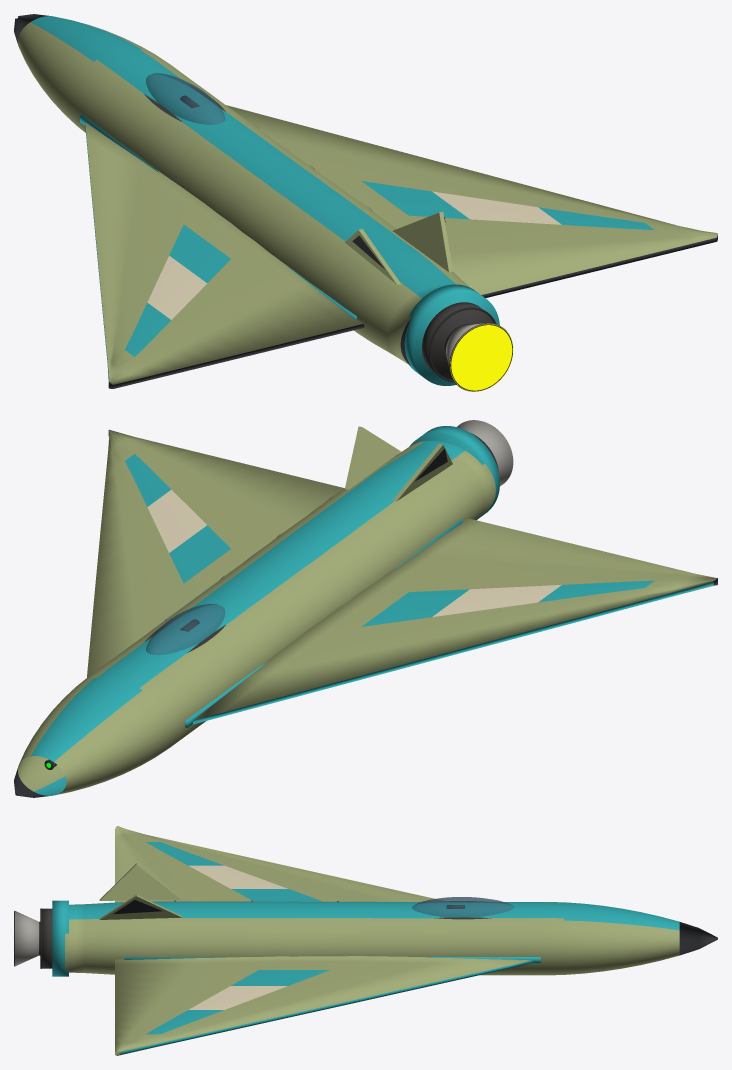
The model's file is Ship_Longwing_6.glb.
3 renders of one model, top to bottom at view 1: azimuth 30°, elevation 25°; view 2: azimuth 150°, elevation 25°; view 3: azimuth 270°, elevation 25°, orthographic. The views are drawn at different scales.
Visible parts, largest first — view 1: Fuselage_OrganicEllipsoidTaperedBody_BakedPaint, Wing_Left_LongDeltaAerofoil_BakedPaint, Wing_Right_LongDeltaAerofoil_BakedPaint, EngineEmitter, AftCollar_IntegratedSingleEngineBand, CanopyGlass_LowInsetDome, EngineBlock_AftDarkSingleEngineHousing, TailFin_Right_CantedStabilizer, TailFin_Left_CantedStabilizer; view 2: Fuselage_OrganicEllipsoidTaperedBody_BakedPaint, Wing_Left_LongDeltaAerofoil_BakedPaint, Wing_Right_LongDeltaAerofoil_BakedPaint, CanopyGlass_LowInsetDome, TailFin_Right_CantedStabilizer, AftCollar_IntegratedSingleEngineBand, EngineBell_Center_BroadBurnishedNozzle, TailFin_Left_CantedStabilizer; view 3: Fuselage_OrganicEllipsoidTaperedBody_BakedPaint, Wing_Right_LongDeltaAerofoil_BakedPaint, Wing_Left_LongDeltaAerofoil_BakedPaint, CanopyGlass_LowInsetDome, TailFin_Left_CantedStabilizer, AftCollar_IntegratedSingleEngineBand, EngineBell_Center_BroadBurnishedNozzle, TailFin_Right_CantedStabilizer, EngineBlock_AftDarkSingleEngineHousing, WingRoot_Right_EmbeddedShoulder.
Boxes of the visible parts, <box> form: Fuselage_OrganicEllipsoidTaperedBody_BakedPaint: <box>14,14,470,365</box>; Wing_Left_LongDeltaAerofoil_BakedPaint: <box>85,122,364,388</box>; Wing_Right_LongDeltaAerofoil_BakedPaint: <box>226,105,717,298</box>; EngineEmitter: <box>450,324,513,391</box>; AftCollar_IntegratedSingleEngineBand: <box>404,284,499,385</box>; CanopyGlass_LowInsetDome: <box>146,73,225,124</box>; EngineBlock_AftDarkSingleEngineHousing: <box>422,302,493,379</box>; TailFin_Right_CantedStabilizer: <box>393,211,452,272</box>; TailFin_Left_CantedStabilizer: <box>345,229,400,284</box>; Fuselage_OrganicEllipsoidTaperedBody_BakedPaint: <box>14,440,495,797</box>; Wing_Left_LongDeltaAerofoil_BakedPaint: <box>192,518,717,724</box>; Wing_Right_LongDeltaAerofoil_BakedPaint: <box>87,429,344,677</box>; CanopyGlass_LowInsetDome: <box>146,604,225,655</box>; TailFin_Right_CantedStabilizer: <box>345,426,400,489</box>; AftCollar_IntegratedSingleEngineBand: <box>409,426,499,520</box>; EngineBell_Center_BroadBurnishedNozzle: <box>457,420,513,485</box>; TailFin_Left_CantedStabilizer: <box>392,443,452,501</box>; Fuselage_OrganicEllipsoidTaperedBody_BakedPaint: <box>65,901,717,975</box>; Wing_Right_LongDeltaAerofoil_BakedPaint: <box>115,956,533,1055</box>; Wing_Left_LongDeltaAerofoil_BakedPaint: <box>115,826,441,902</box>; CanopyGlass_LowInsetDome: <box>412,897,513,917</box>; TailFin_Left_CantedStabilizer: <box>99,863,182,900</box>; AftCollar_IntegratedSingleEngineBand: <box>52,900,68,976</box>; EngineBell_Center_BroadBurnishedNozzle: <box>15,911,38,966</box>; TailFin_Right_CantedStabilizer: <box>99,895,182,919</box>; EngineBlock_AftDarkSingleEngineHousing: <box>41,908,52,968</box>; WingRoot_Right_EmbeddedShoulder: <box>124,957,540,962</box>.
Size of the model in its own units: 6.74 by 1.32 by 8.93.
